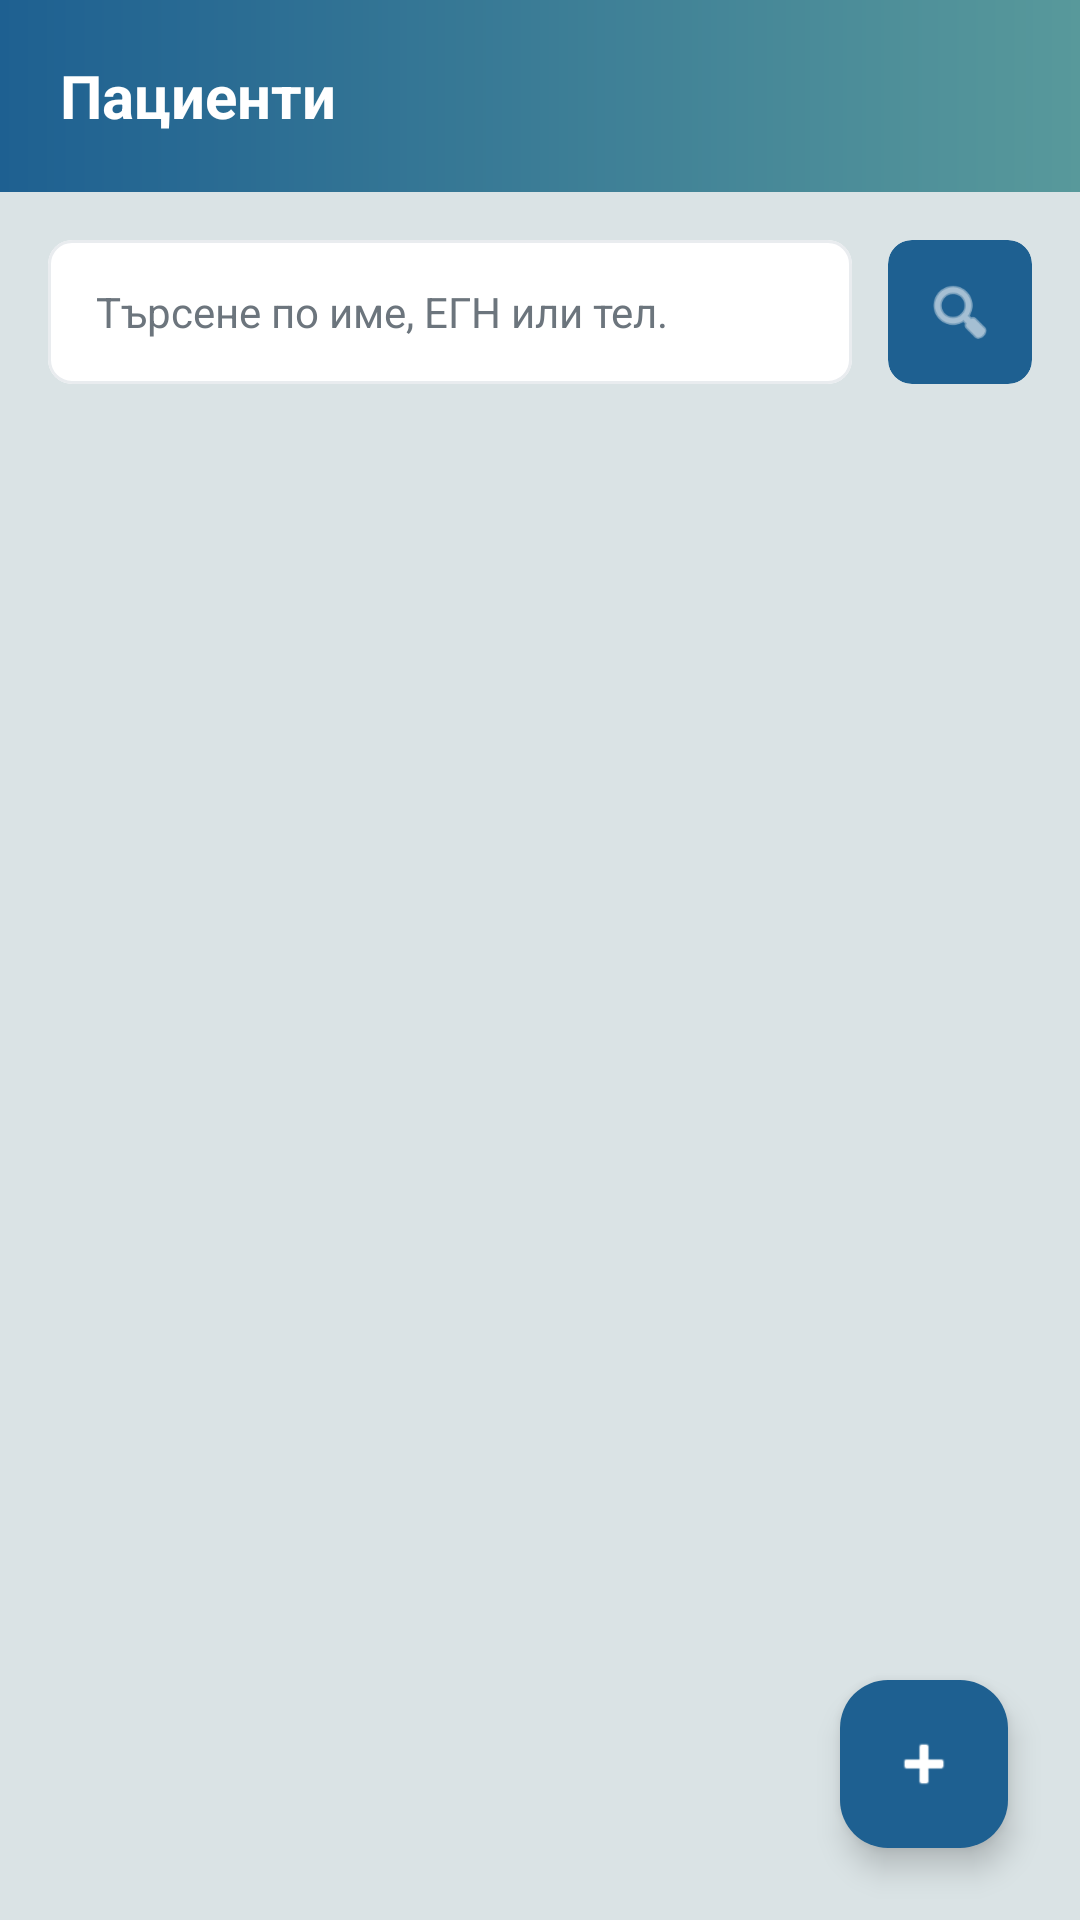

Named icons in this screenshot (1080px x 1920px) and their bounding boxes, (x1, y1, x2, y2):
add: (840, 1680, 1008, 1848)
search: (933, 286, 987, 339)
